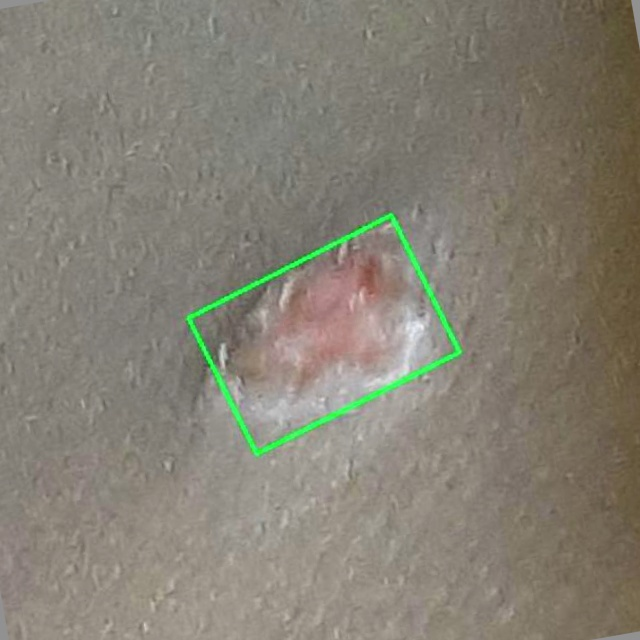Eczema: (188, 214, 460, 453)
